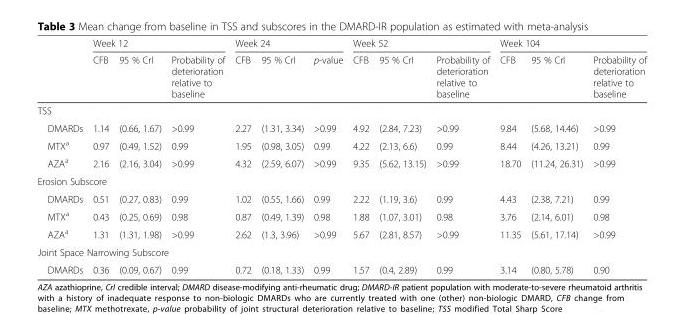table: (36, 37, 646, 275)
table column: (165, 37, 229, 275), (430, 37, 494, 275), (525, 37, 587, 275), (587, 37, 646, 275), (373, 37, 430, 275), (255, 37, 308, 275), (113, 37, 165, 275), (36, 37, 87, 275), (308, 37, 347, 275), (494, 37, 525, 275), (87, 37, 113, 275), (229, 37, 255, 275), (347, 37, 373, 275)
table column header: (36, 37, 646, 101)
table projected row header: (36, 242, 646, 260), (36, 101, 646, 118), (36, 172, 646, 189)
table row: (36, 51, 646, 101), (36, 153, 646, 172), (36, 135, 646, 153), (36, 206, 646, 224), (36, 224, 646, 242), (36, 242, 646, 260), (36, 101, 646, 118), (36, 118, 646, 135), (36, 172, 646, 189), (36, 189, 646, 206), (36, 260, 646, 275), (36, 37, 646, 51)
table spanning cell: (494, 37, 646, 51), (347, 37, 494, 51), (87, 37, 229, 51), (229, 37, 347, 51)
